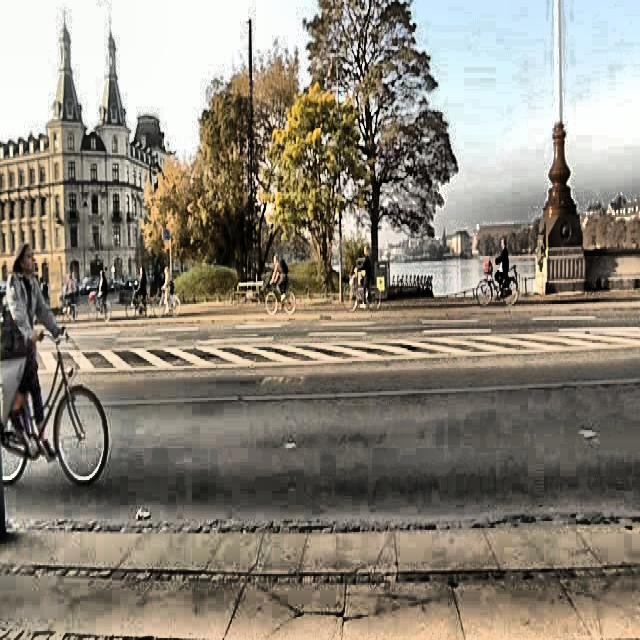bicycle: (0, 344, 106, 489)
